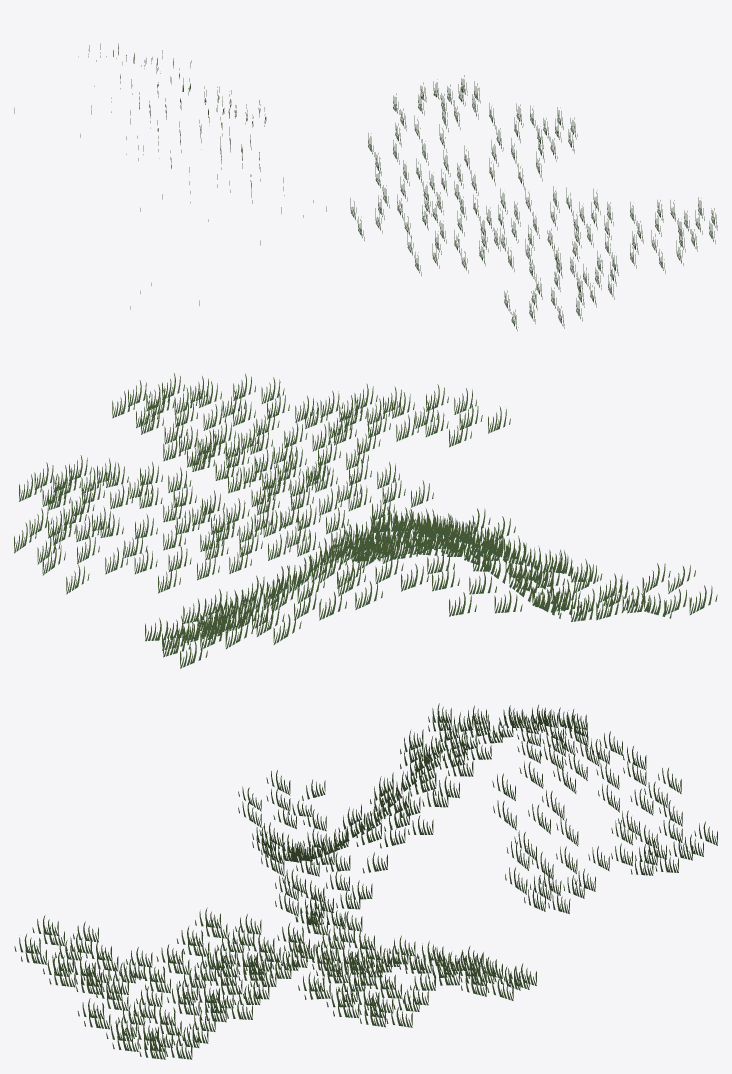
The model's file is gras.fbx.
The picture shows the model from 3 angles, top to bottom: view 1: azimuth 30°, elevation 25°; view 2: azimuth 150°, elevation 25°; view 3: azimuth 270°, elevation 25°; orthographic projection. The views are drawn at different scales.
Visible parts, largest first — view 1: pCube147; view 2: pCube147; view 3: pCube147.
Boxes of the visible parts, left/top/right/bottom form: pCube147: left=14, top=43, right=717, bottom=331; pCube147: left=14, top=373, right=717, bottom=668; pCube147: left=14, top=703, right=717, bottom=1059.
Bounding box in the file's own units: 1915 × 526 × 2110.
